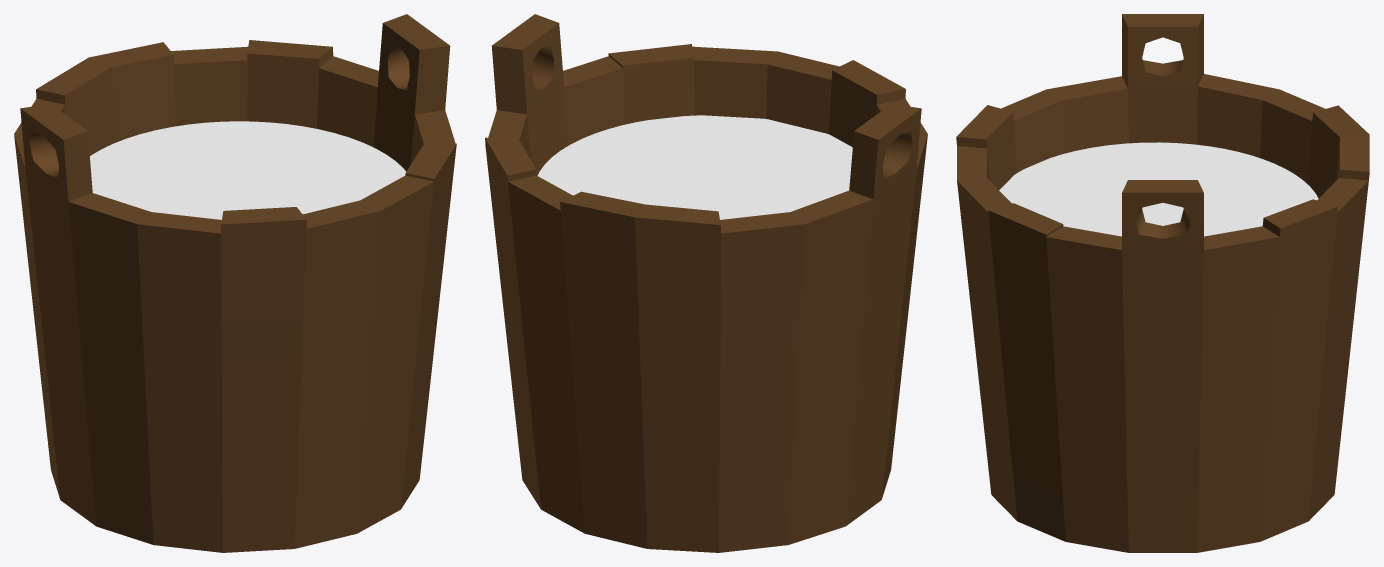
File: NEW Secchio pieno.fbx
3 renders of one model, left to right at view 1: azimuth 30°, elevation 25°; view 2: azimuth 150°, elevation 25°; view 3: azimuth 270°, elevation 25°, orthographic. The views are drawn at different scales.
Visible parts, largest first — view 1: Object_1; view 2: Object_1; view 3: Object_1.
Boxes of the visible parts, left/top/right/bottom form: Object_1: left=14, top=14, right=456, bottom=552; Object_1: left=485, top=14, right=927, bottom=552; Object_1: left=956, top=14, right=1369, bottom=552.
Bounding box in the file's own units: 36.25 × 35.66 × 35.45.
